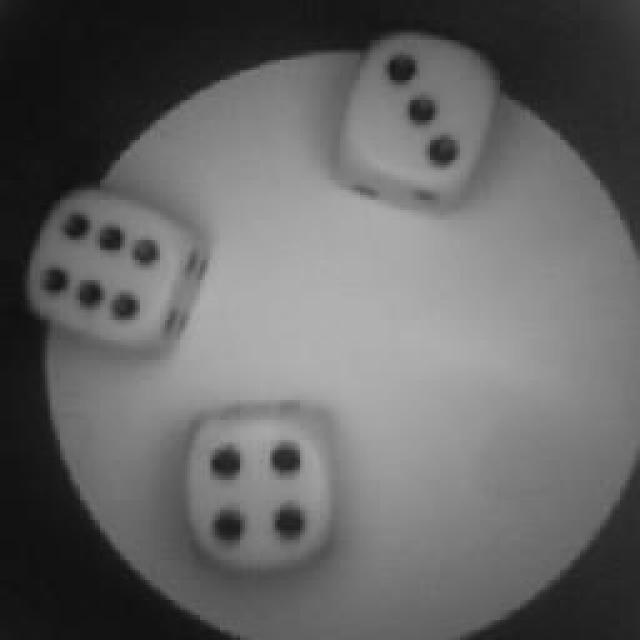dice_3: (350, 30, 502, 195)
dice_4: (180, 402, 342, 578)
dice_6: (28, 193, 192, 355)
